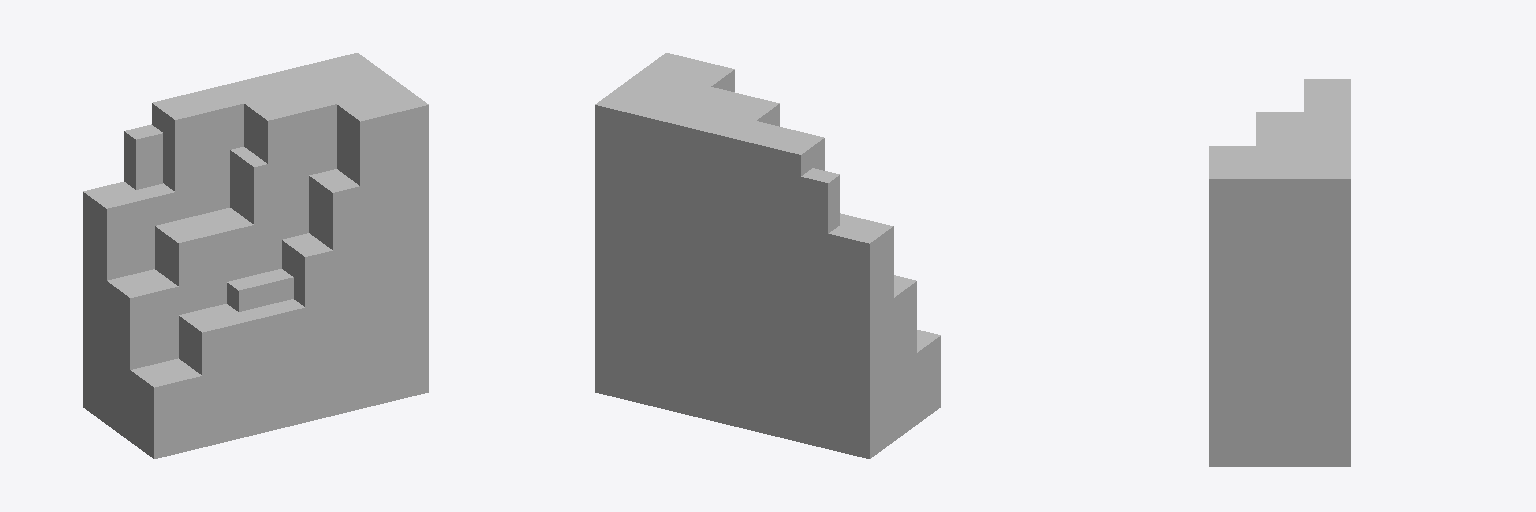
Rendered from corner inner 2.obj.
3 views of the same model, side by side, from view 1: azimuth 30°, elevation 25°; view 2: azimuth 150°, elevation 25°; view 3: azimuth 270°, elevation 25° (orthographic).
Bounding box in the file's own units: 40 × 40 × 18.